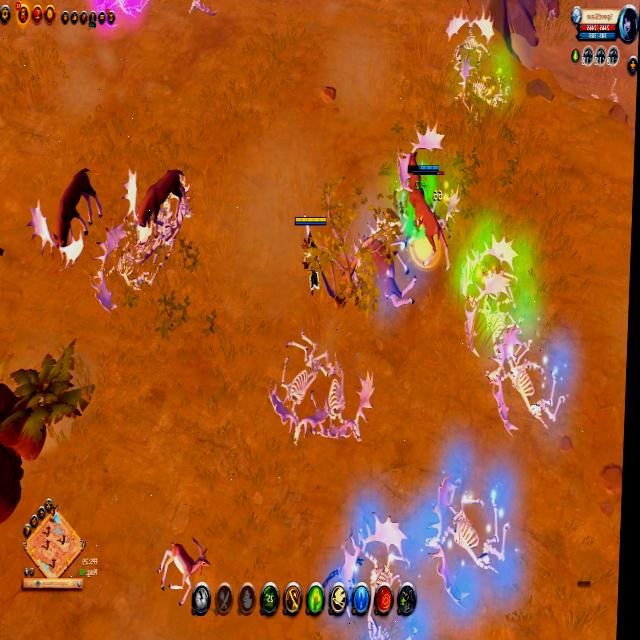mob: (362, 228, 420, 312), (155, 532, 212, 612)
ore: (26, 164, 104, 264), (396, 148, 457, 272), (118, 156, 195, 238)
red: (293, 214, 327, 288), (405, 160, 441, 176)
